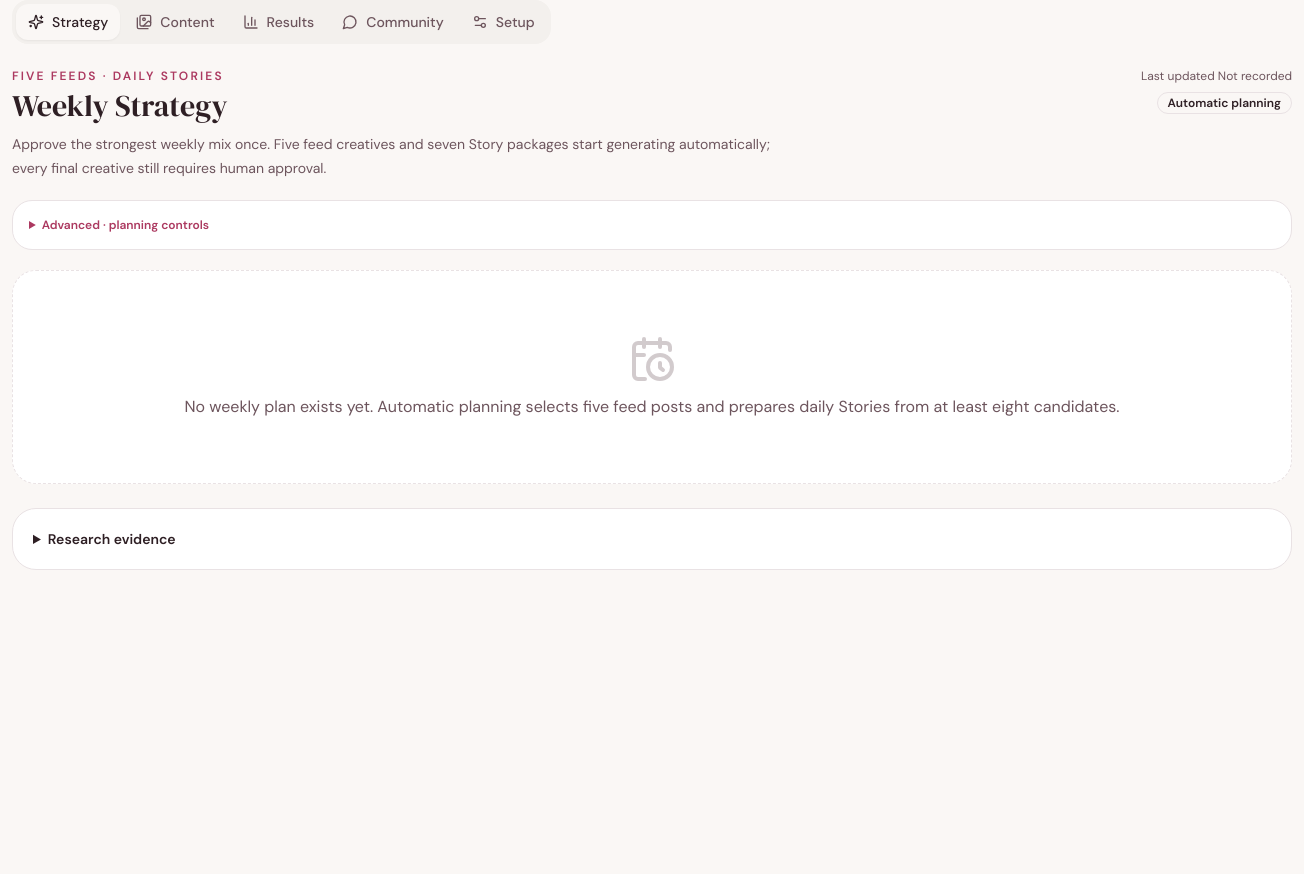
Test: Social Media Manager workspace composition › composes list, calendar and one-off creation inside Content
This screenshot has width=1304, height=874.
Click the tab "Content" at [176, 22], box [124,4,227,40]
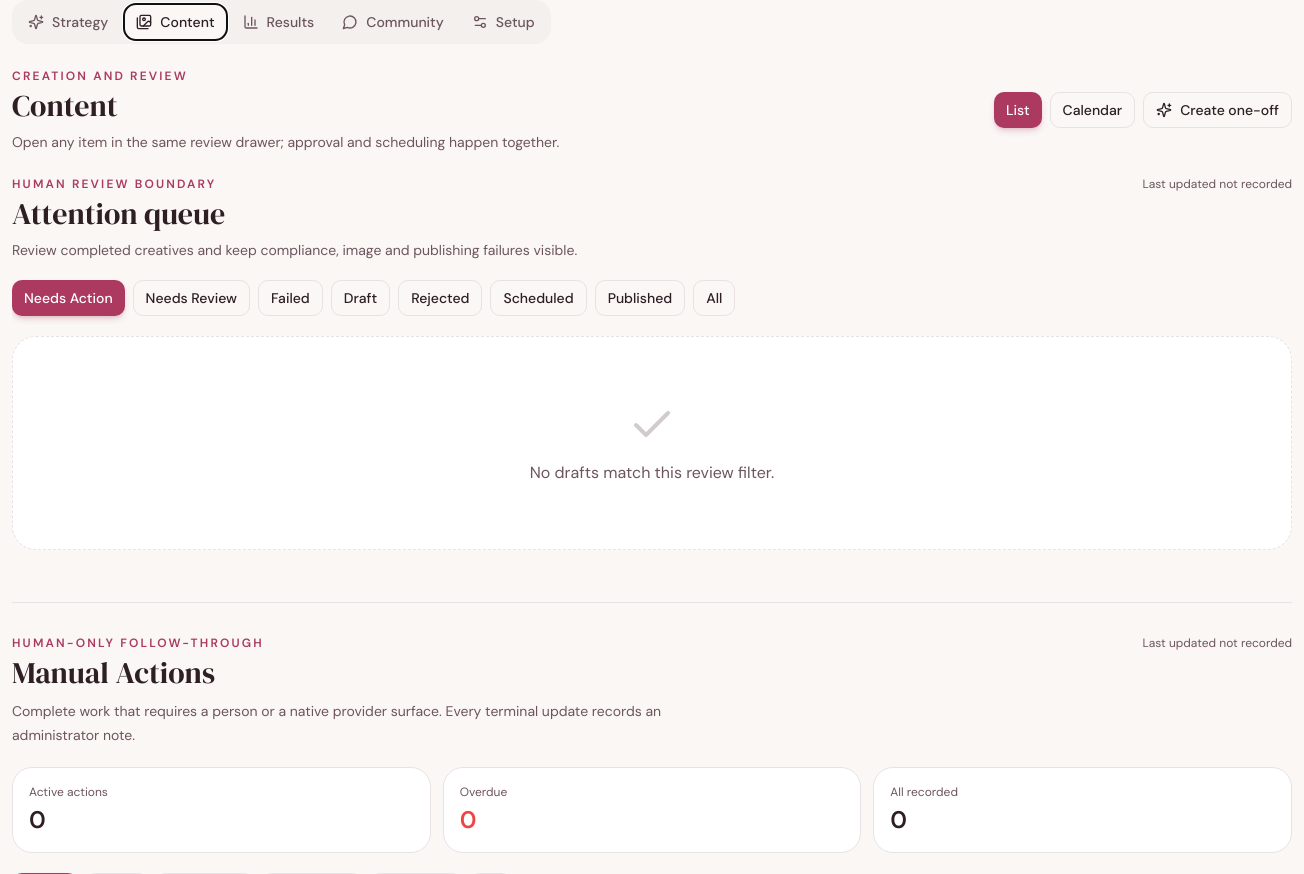
Check: the button "List" is shown, box [994,92,1042,128]
Check: the button "Calendar" is shown, box [1050,92,1135,128]
Check: the button "Create one-off" is shown, box [1143,92,1292,128]
